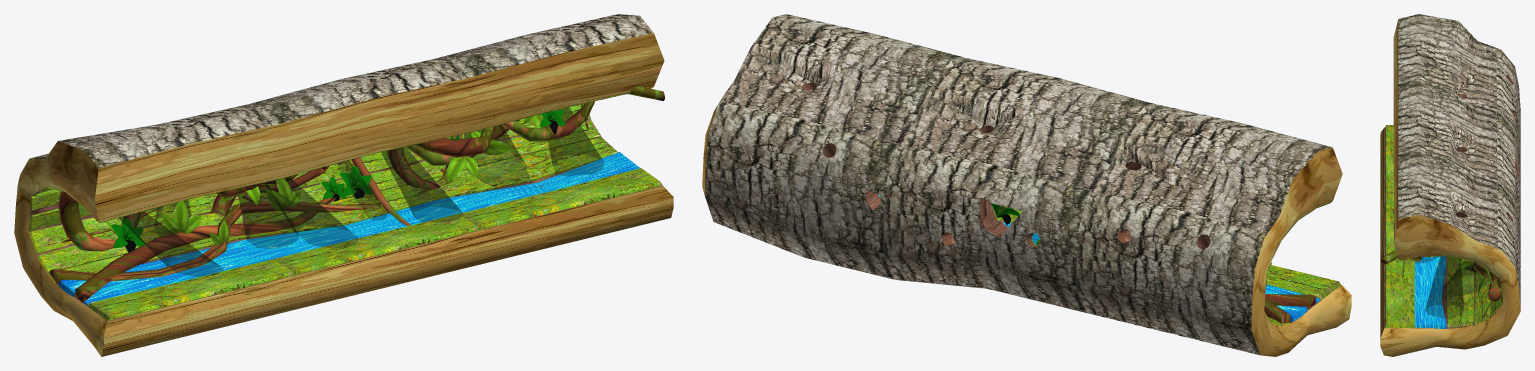
3 views of the same model, side by side, from view 1: azimuth 30°, elevation 25°; view 2: azimuth 150°, elevation 25°; view 3: azimuth 270°, elevation 25° (orthographic). The views are drawn at different scales.
Parts seen in each view (by area): view 1: polySurface413; view 2: polySurface413; view 3: polySurface413.
Part boxes in pixels (left/top/right/bottom): polySurface413: left=14, top=14, right=673, bottom=356; polySurface413: left=702, top=14, right=1351, bottom=356; polySurface413: left=1380, top=14, right=1520, bottom=356.
Bounding box in the file's own units: 5100 × 1668 × 1470.
